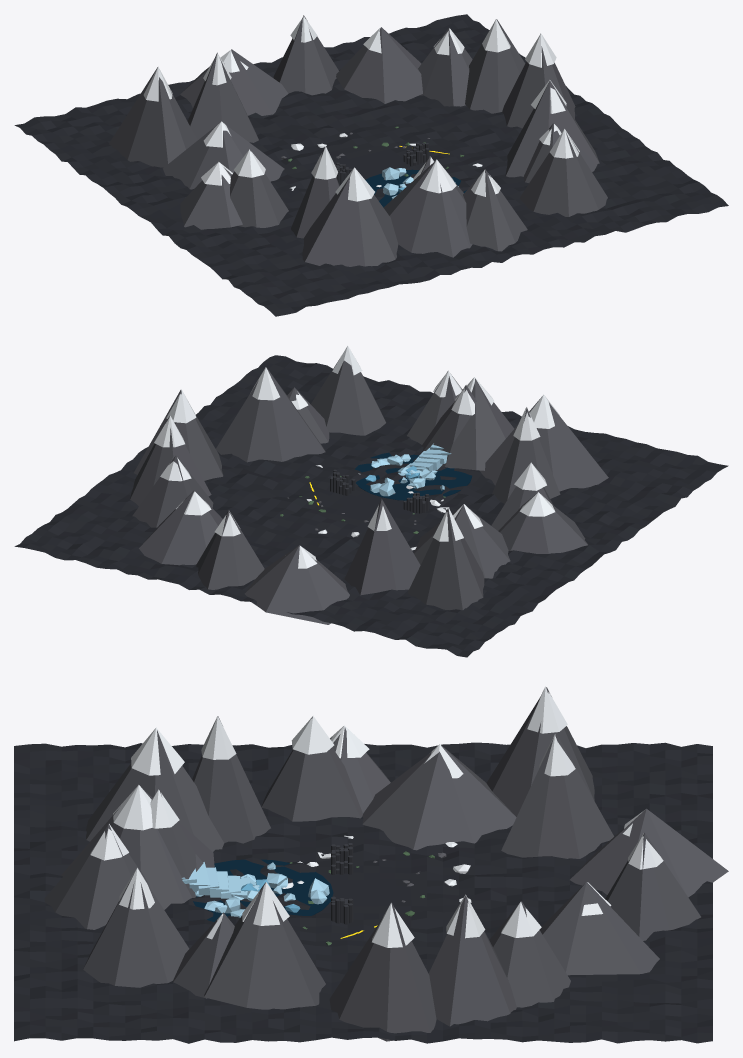
File: Escenario_Islandia.fbx
The picture shows the model from 3 angles, top to bottom: view 1: azimuth 30°, elevation 25°; view 2: azimuth 150°, elevation 25°; view 3: azimuth 270°, elevation 25°; orthographic projection. The views are drawn at different scales.
Visible parts, largest first — view 1: Escenario_Islandia_Volcanica, Escenario_Islandia_Roca, Escenario_Islandia_Nieve, Escenario_Islandia_Basalto, Escenario_Islandia_Agua, Escenario_Islandia_Hielo; view 2: Escenario_Islandia_Volcanica, Escenario_Islandia_Roca, Escenario_Islandia_Nieve, Escenario_Islandia_Hielo, Escenario_Islandia_Agua, Escenario_Islandia_Basalto; view 3: Escenario_Islandia_Roca, Escenario_Islandia_Volcanica, Escenario_Islandia_Nieve, Escenario_Islandia_Hielo, Escenario_Islandia_Agua, Escenario_Islandia_Basalto.
Boxes of the visible parts, box(x1,y1,x2,y2) form: Escenario_Islandia_Volcanica: box(14, 14, 728, 316); Escenario_Islandia_Roca: box(109, 15, 607, 266); Escenario_Islandia_Nieve: box(143, 16, 579, 201); Escenario_Islandia_Basalto: box(334, 142, 429, 184); Escenario_Islandia_Agua: box(365, 169, 466, 207); Escenario_Islandia_Hielo: box(382, 167, 458, 199); Escenario_Islandia_Volcanica: box(14, 355, 728, 657); Escenario_Islandia_Roca: box(130, 359, 608, 624); Escenario_Islandia_Nieve: box(154, 345, 559, 568); Escenario_Islandia_Hielo: box(370, 443, 451, 496); Escenario_Islandia_Agua: box(354, 452, 472, 500); Escenario_Islandia_Basalto: box(330, 469, 429, 513); Escenario_Islandia_Roca: box(44, 687, 728, 1041); Escenario_Islandia_Volcanica: box(14, 742, 712, 1043); Escenario_Islandia_Nieve: box(90, 686, 663, 947); Escenario_Islandia_Hielo: box(182, 862, 329, 917); Escenario_Islandia_Agua: box(193, 859, 333, 921); Escenario_Islandia_Basalto: box(331, 843, 353, 924).
Size of the model in its own units: 140 by 28.6 by 143.
